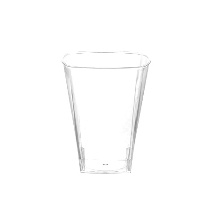glass: (51, 45, 153, 191)
